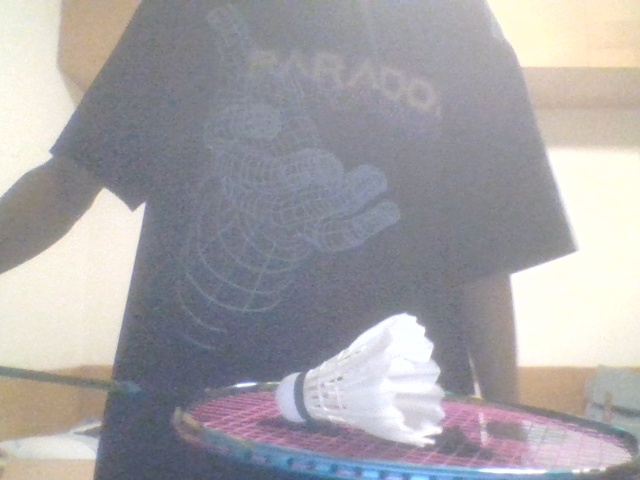human: (1, 1, 578, 480)
racket: (1, 364, 640, 480)
shuttle: (276, 313, 447, 449)
